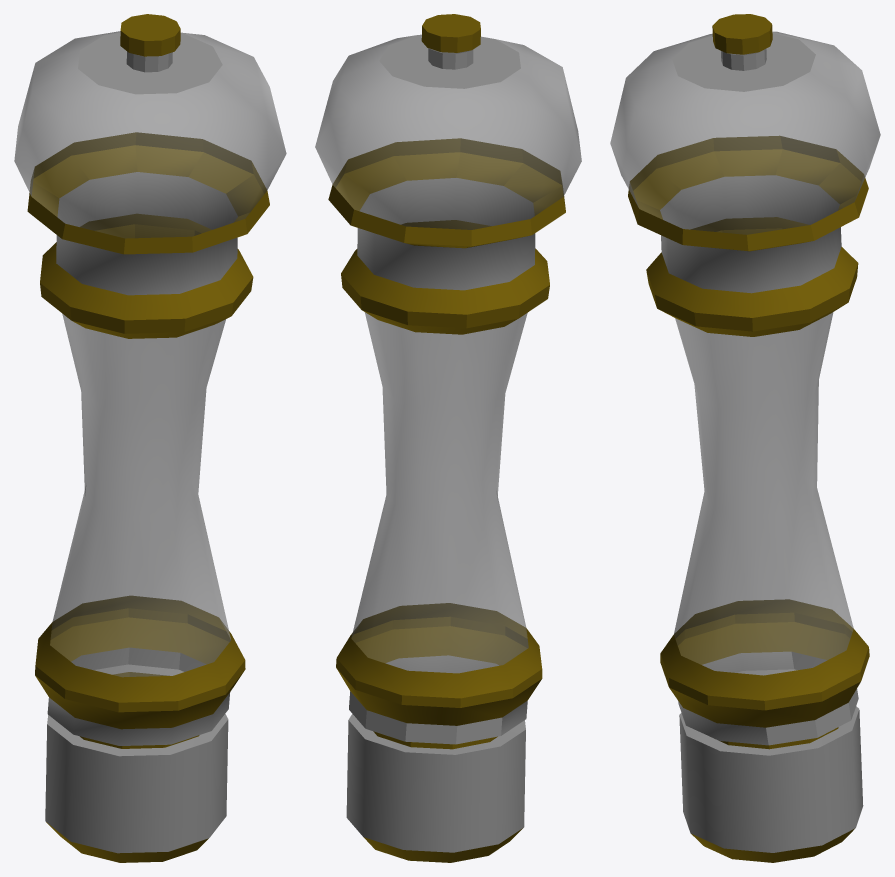
File: pepper mail03.FBX
3 renders of one model, left to right at view 1: azimuth 30°, elevation 25°; view 2: azimuth 150°, elevation 25°; view 3: azimuth 270°, elevation 25°, orthographic. The views are drawn at different scales.
Visible parts, largest first — view 1: Cylinder001; view 2: Cylinder001; view 3: Cylinder001.
Boxes of the visible parts, x1,y1,x2,y2 form: Cylinder001: (14,14,286,862); Cylinder001: (315,14,581,862); Cylinder001: (610,14,880,862).
Size of the model in its own units: 24.46 by 81.36 by 24.69.
